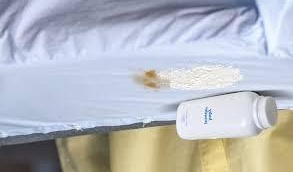oil: (131, 65, 161, 91)
